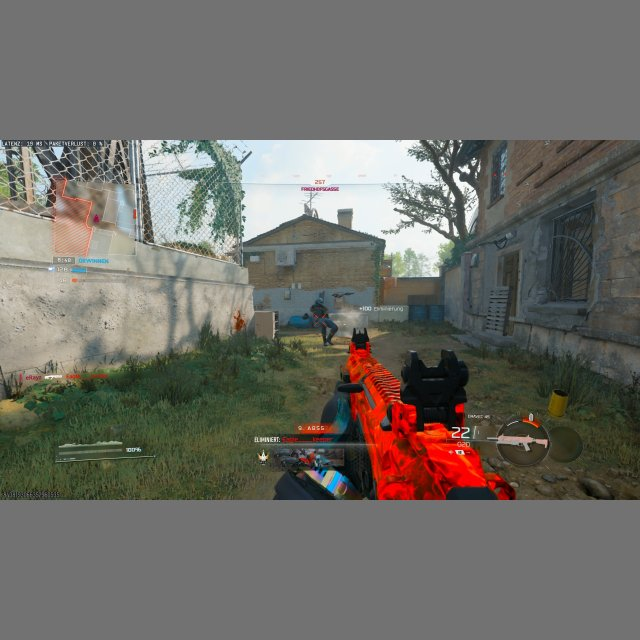head: (315, 297, 323, 305)
player: (308, 297, 339, 345)
